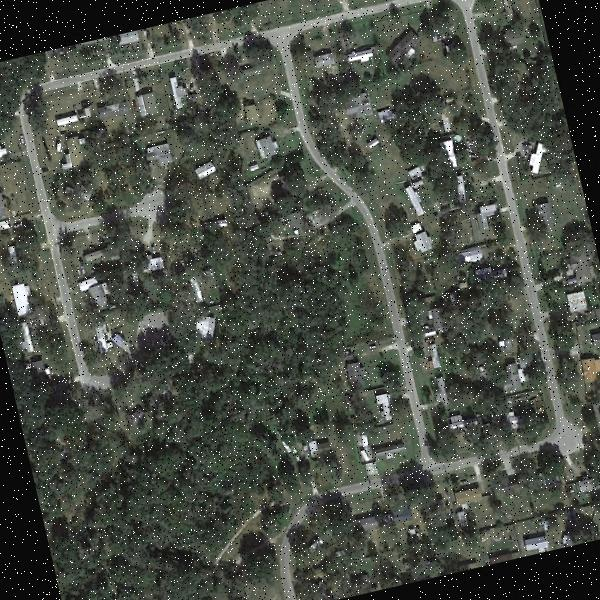Buildings: (400, 164, 432, 218), (384, 29, 420, 65), (6, 282, 35, 316), (449, 476, 482, 503), (254, 133, 282, 162), (138, 90, 164, 121), (84, 278, 110, 308), (145, 140, 171, 168), (412, 230, 438, 254), (194, 160, 218, 186), (578, 352, 599, 378), (0, 189, 14, 227), (524, 534, 548, 556), (373, 392, 391, 421), (98, 324, 114, 351), (570, 292, 588, 310), (198, 319, 216, 335)
